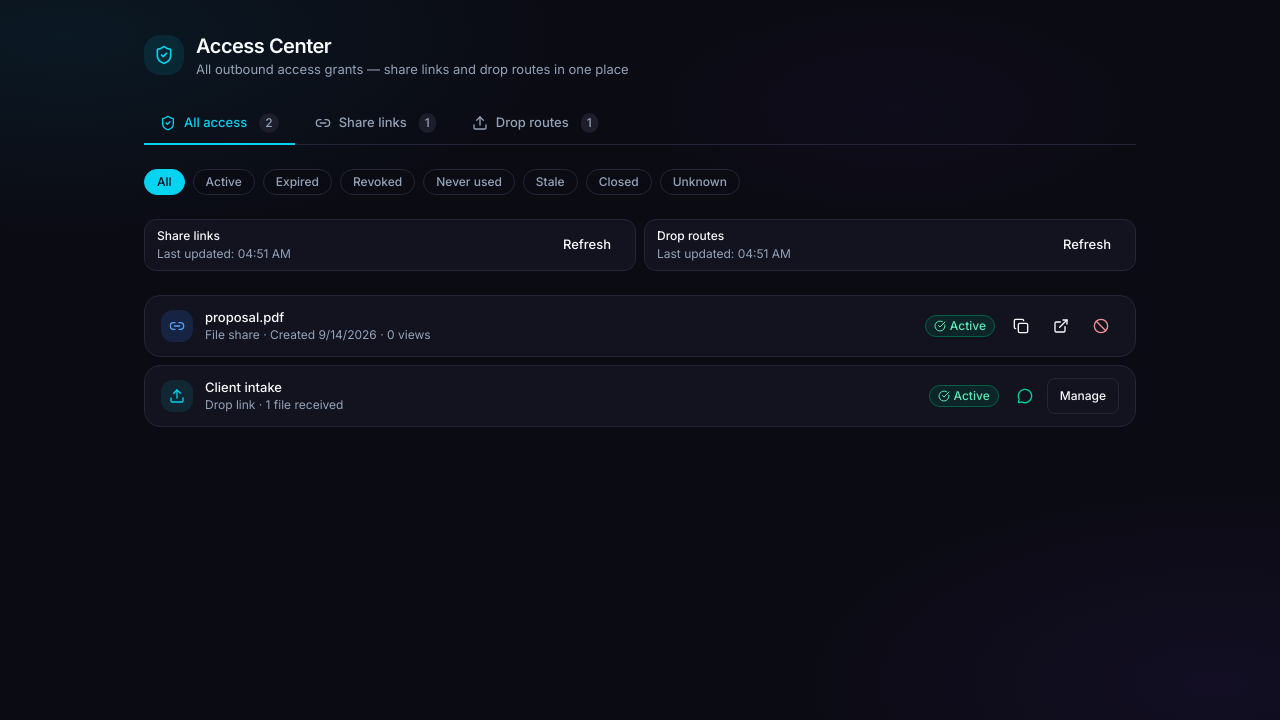
Test: AccessCenter truthful source states › preserves loaded data and marks only the failed refreshed source stale
This screenshot has width=1280, height=720.
Expected: the text "Client intake" is shown, [205,379,282,395]
Click the button with aria-label "Refresh drop routes".
click(1087, 245)  # box [1051,229,1123,261]
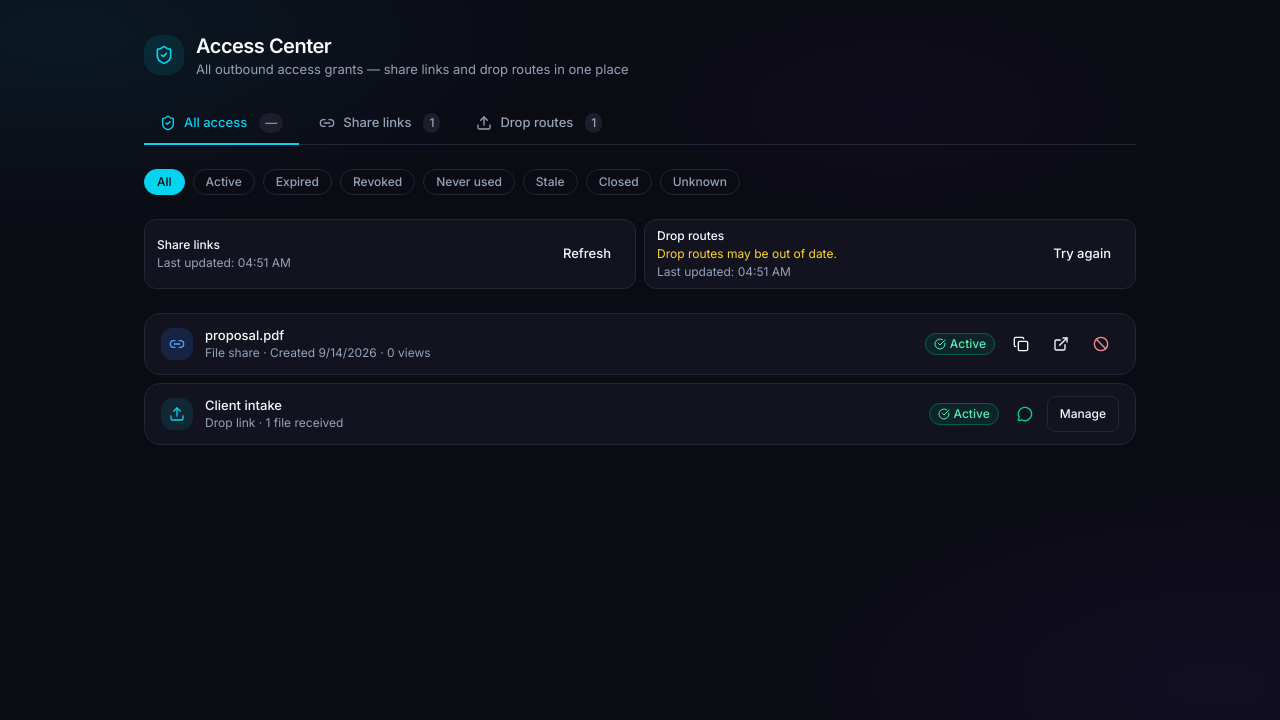
Expected: the text "Client intake" is shown, [205,397,282,413]
Expected: the text "Drop routes may be out of date." is shown, [657,246,837,262]
